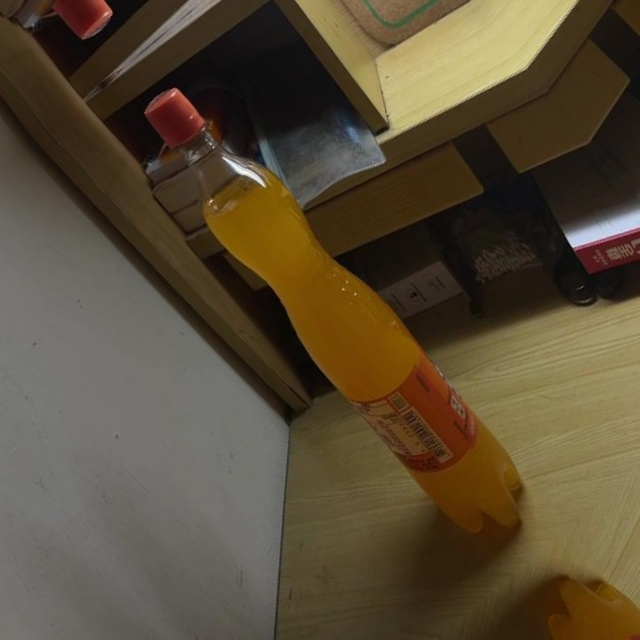Fanta: (119, 69, 554, 561)
